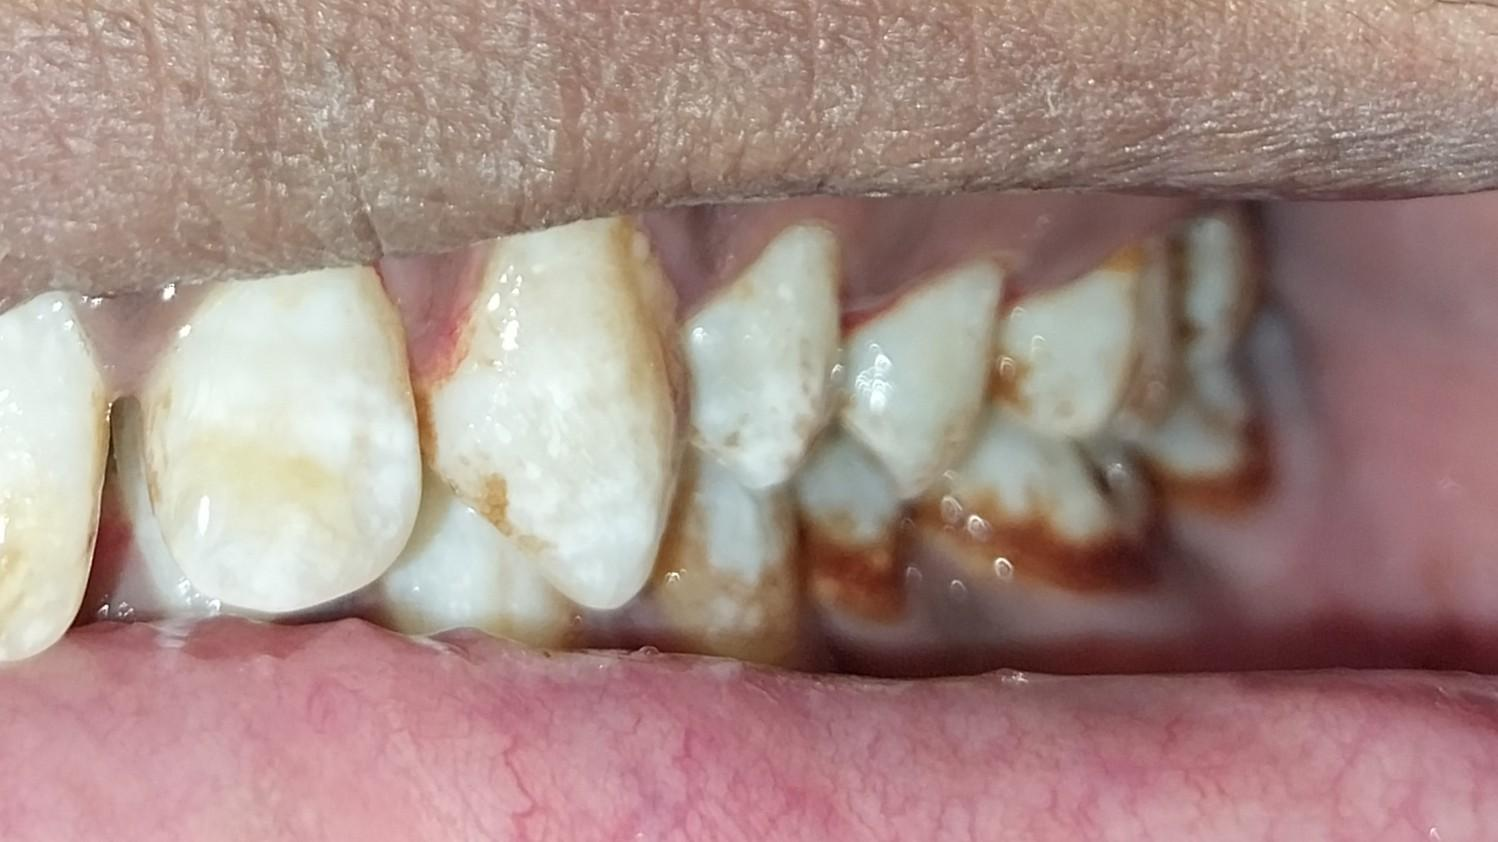D: (965, 420, 1164, 592)
